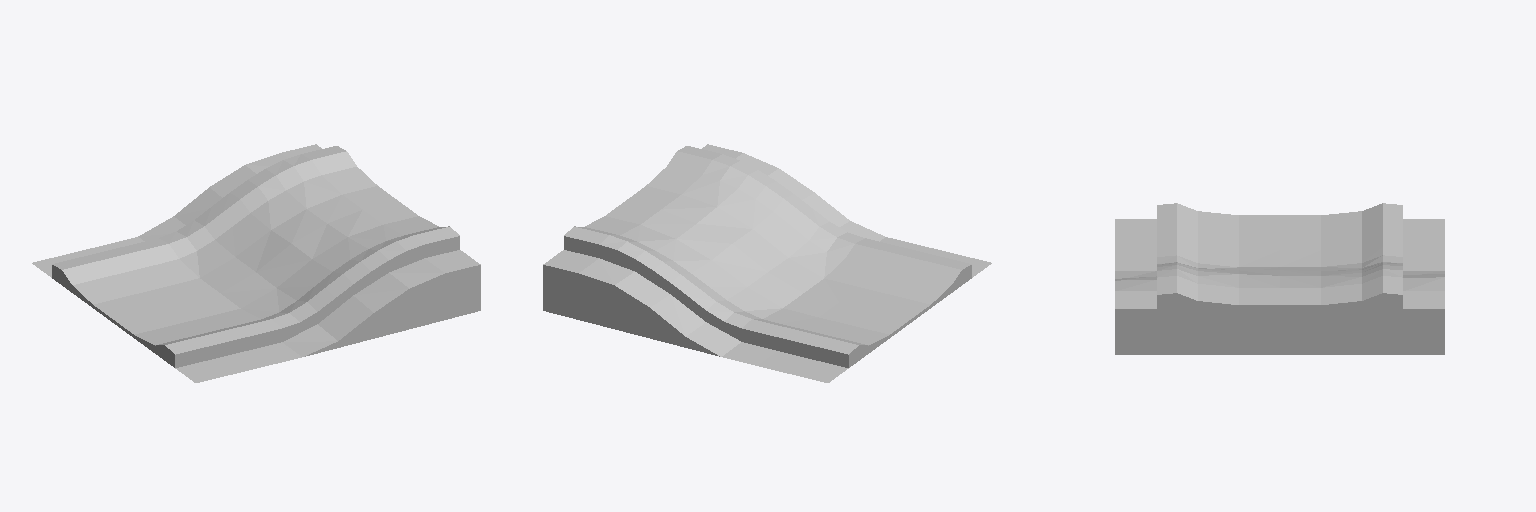
The model's file is Jump.obj.
3 views of the same model, side by side, from view 1: azimuth 30°, elevation 25°; view 2: azimuth 150°, elevation 25°; view 3: azimuth 270°, elevation 25° (orthographic).
Size of the model in its own units: 8 by 1.74 by 8.